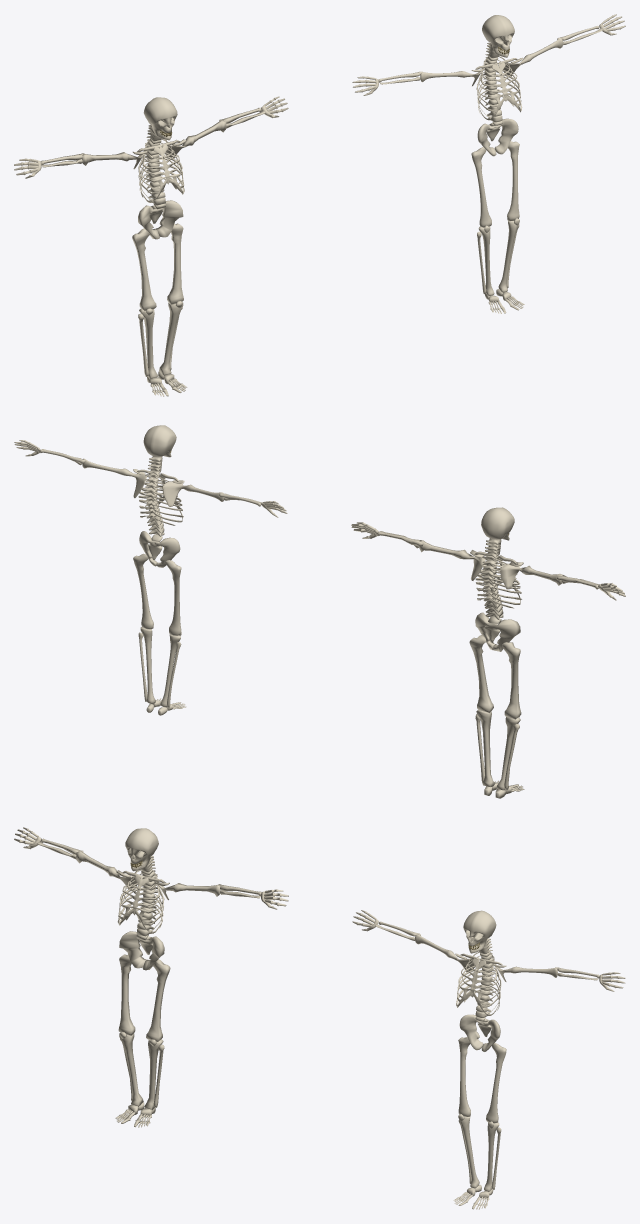
Rendered from ExportedBlenderFBXFile.fbx.
3 views of the same model, one above another, from view 1: azimuth 30°, elevation 25°; view 2: azimuth 150°, elevation 25°; view 3: azimuth 330°, elevation 25° (orthographic).
Parts seen in each view (by area): view 1: Skeleton_lowPoly, Skeleton_highPoly; view 2: Skeleton_lowPoly, Skeleton_highPoly; view 3: Skeleton_lowPoly, Skeleton_highPoly.
Boxes of the visible parts, <box> form: Skeleton_lowPoly: <box>14,96,288,396</box>; Skeleton_highPoly: <box>352,14,625,313</box>; Skeleton_lowPoly: <box>351,507,625,798</box>; Skeleton_highPoly: <box>14,425,287,715</box>; Skeleton_lowPoly: <box>14,827,288,1127</box>; Skeleton_highPoly: <box>352,910,625,1209</box>.
Bounding box in the file's own units: 7.78 × 3.48 × 0.5654.
